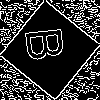B: (25, 25, 74, 63)
